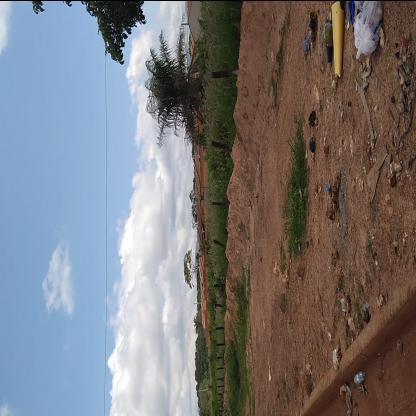lixo: (315, 0, 377, 72)
